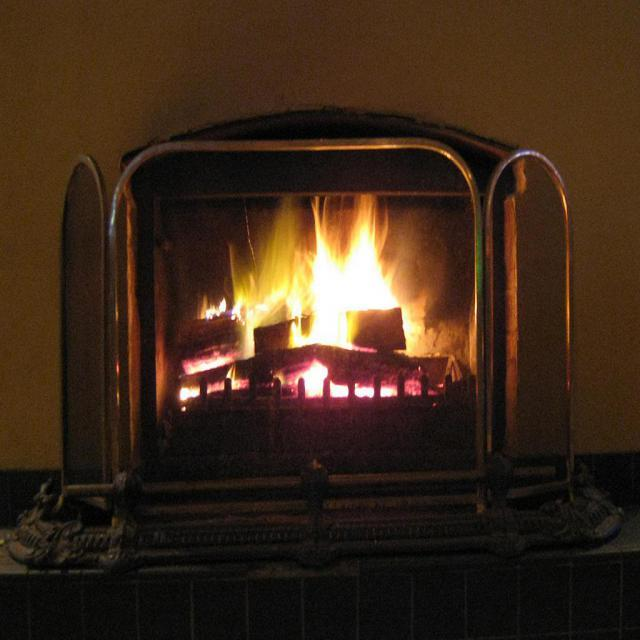Fire: (177, 199, 451, 406)
